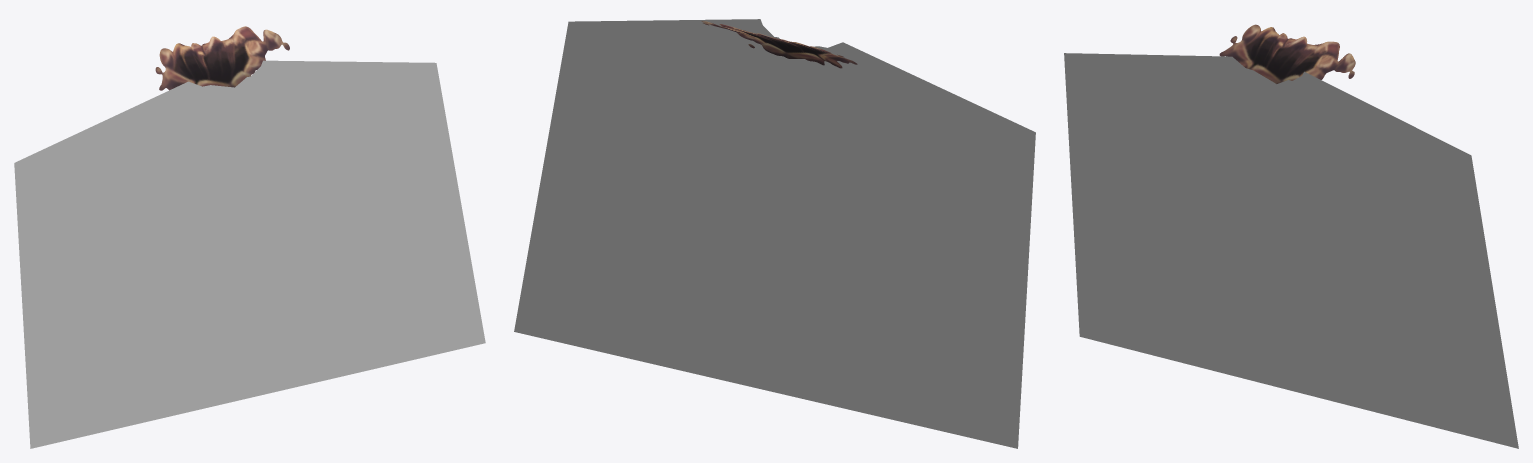
Rendered from Small Hole.FBX.
3 views of the same model, side by side, from view 1: azimuth 30°, elevation 25°; view 2: azimuth 150°, elevation 25°; view 3: azimuth 330°, elevation 25° (orthographic). The views are drawn at different scales.
Visible parts, largest first — view 1: Small Hole Mask, Small Hole; view 2: Small Hole Mask, Small Hole; view 3: Small Hole Mask, Small Hole.
Part boxes in pixels (x1=…): Small Hole Mask: x1=14, y1=60, x2=485, y2=448; Small Hole: x1=155, y1=26, x2=289, y2=90; Small Hole Mask: x1=514, y1=19, x2=1035, y2=448; Small Hole: x1=701, y1=21, x2=857, y2=68; Small Hole Mask: x1=1064, y1=53, x2=1518, y2=448; Small Hole: x1=1219, y1=24, x2=1355, y2=83.
Bounding box in the file's own units: 385 × 40.55 × 275.
